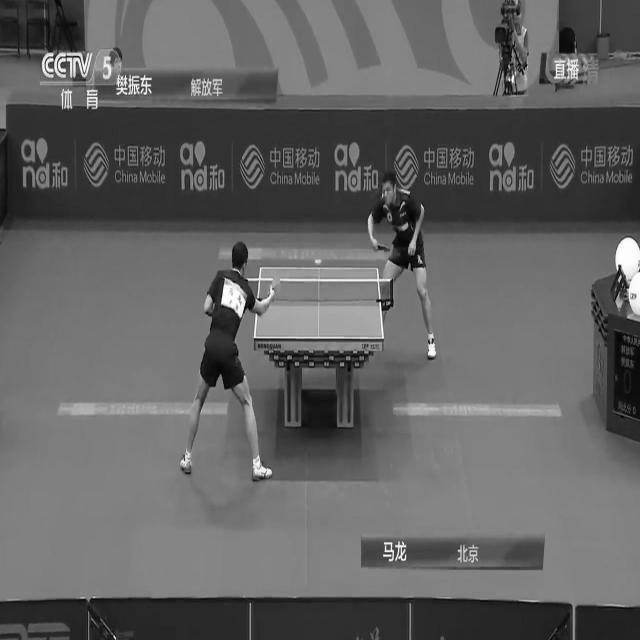ping-pong-ball: (314, 255, 322, 265)
